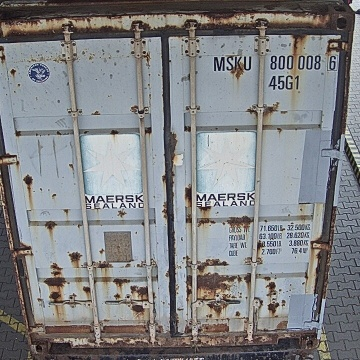serial_id: (214, 54, 337, 70)
